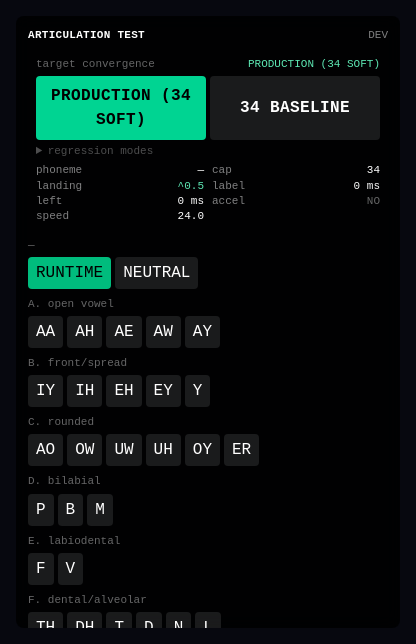
Test case: Hyper3DArticulationTestPanel › the authored column drops the asset gain
Click the button "AA": (46, 332) [28, 316, 63, 348]
(page scrolled)
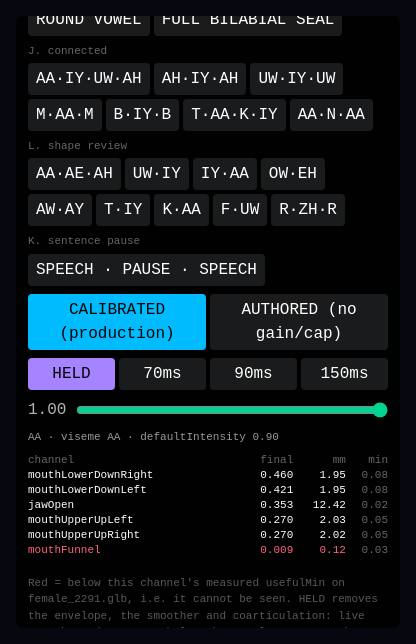
Click the button "AUTHORED (no gain/cap)": (299, 322) [210, 294, 388, 350]
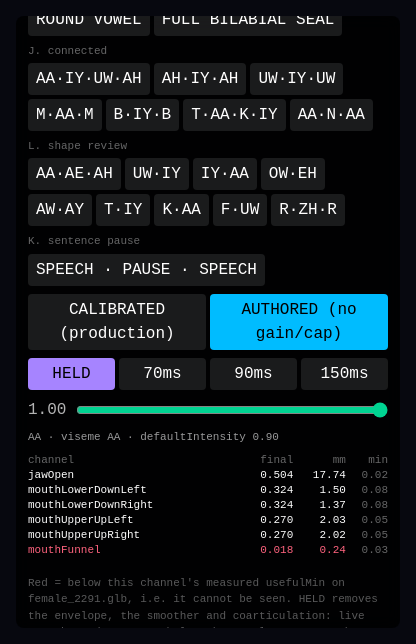
Result: the element with test id "hyper3d-articulation-test-panel" shows "0.504" at [260, 469, 293, 481]
